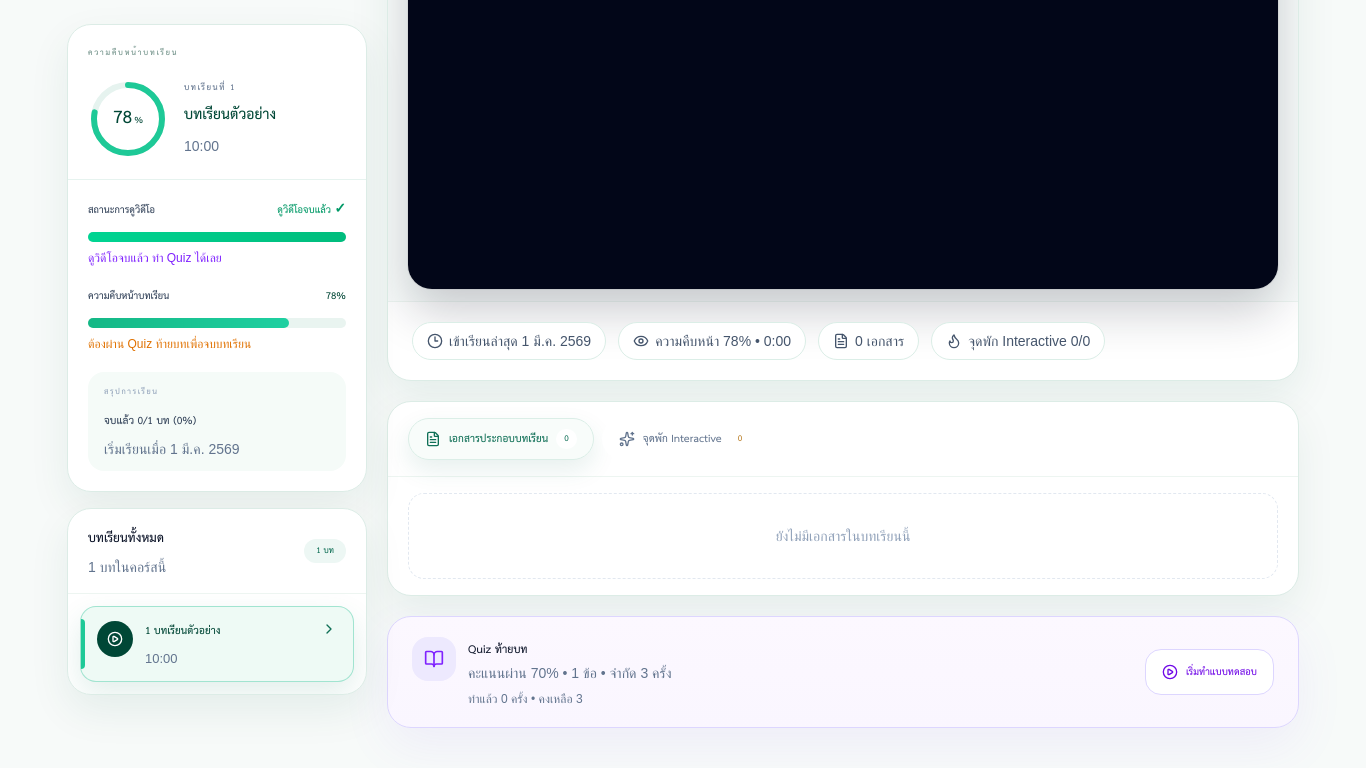
Test: CourseLearningArea interactive harness › opens the lesson quiz panel and submits a learner attempt
(page scrolled)
Expected: the heading "Quiz ท้ายบท" is shown, x1=468 y1=639 x2=528 y2=660
What coordinates should you click on to do the following:
click the button "เริ่มทำแบบทดสอบ"
I would click on:
 (1210, 672)
Its box is x1=1145 y1=649 x2=1274 y2=695.
(page scrolled)
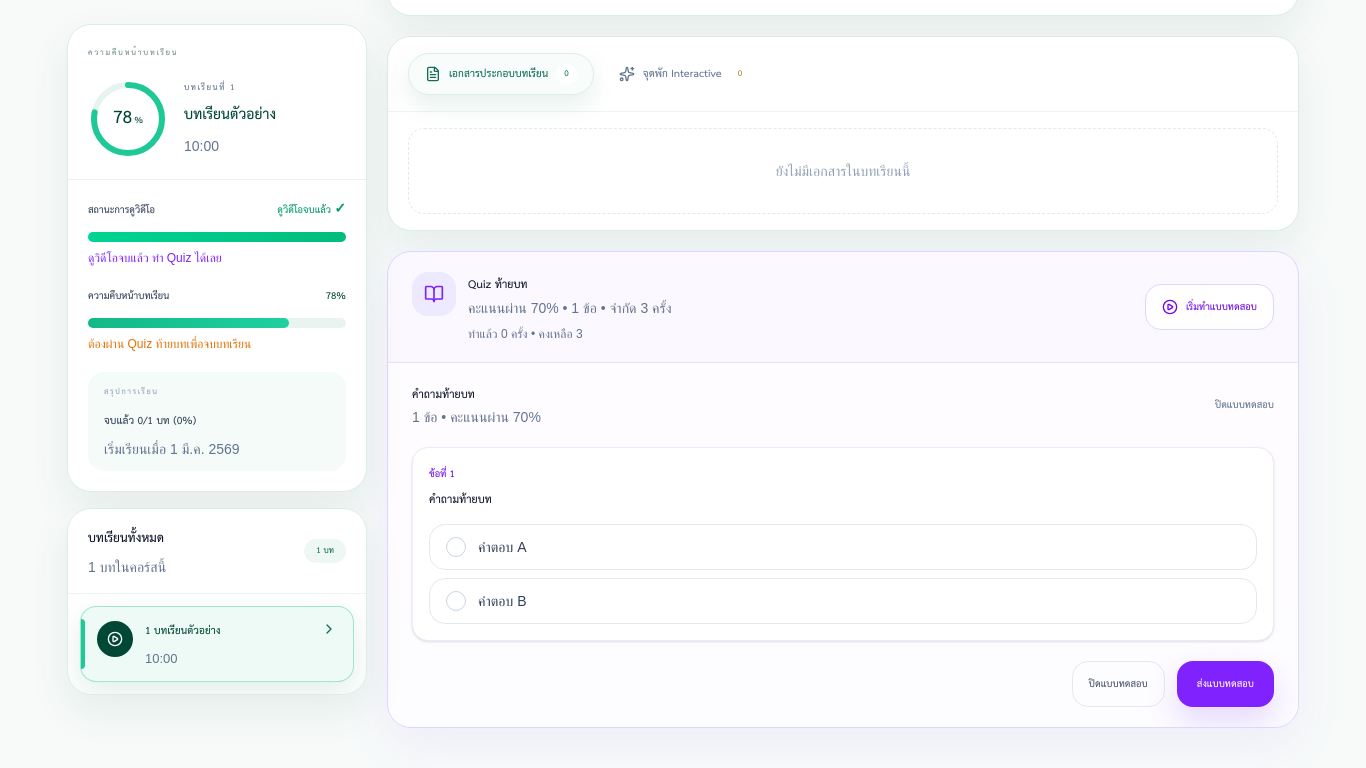
Now the button "คำตอบ A" is shown
What coordinates should you click on to do the following:
click the button "คำตอบ A"
I would click on:
 (502, 547)
Its box is x1=429 y1=524 x2=1257 y2=570.
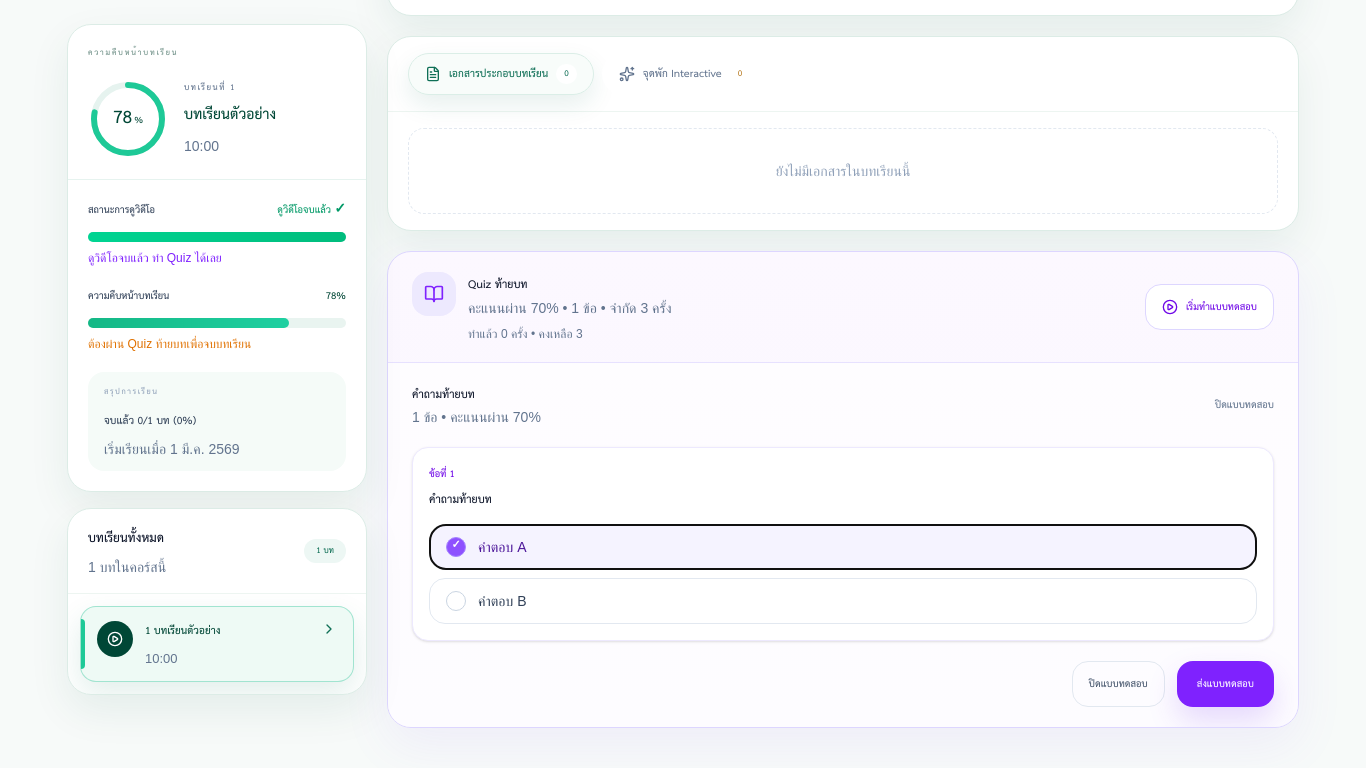
What coordinates should you click on to do the following:
click the button "ส่งแบบทดสอบ"
I would click on:
 (1225, 684)
Its box is x1=1177 y1=660 x2=1274 y2=706.
(page scrolled)
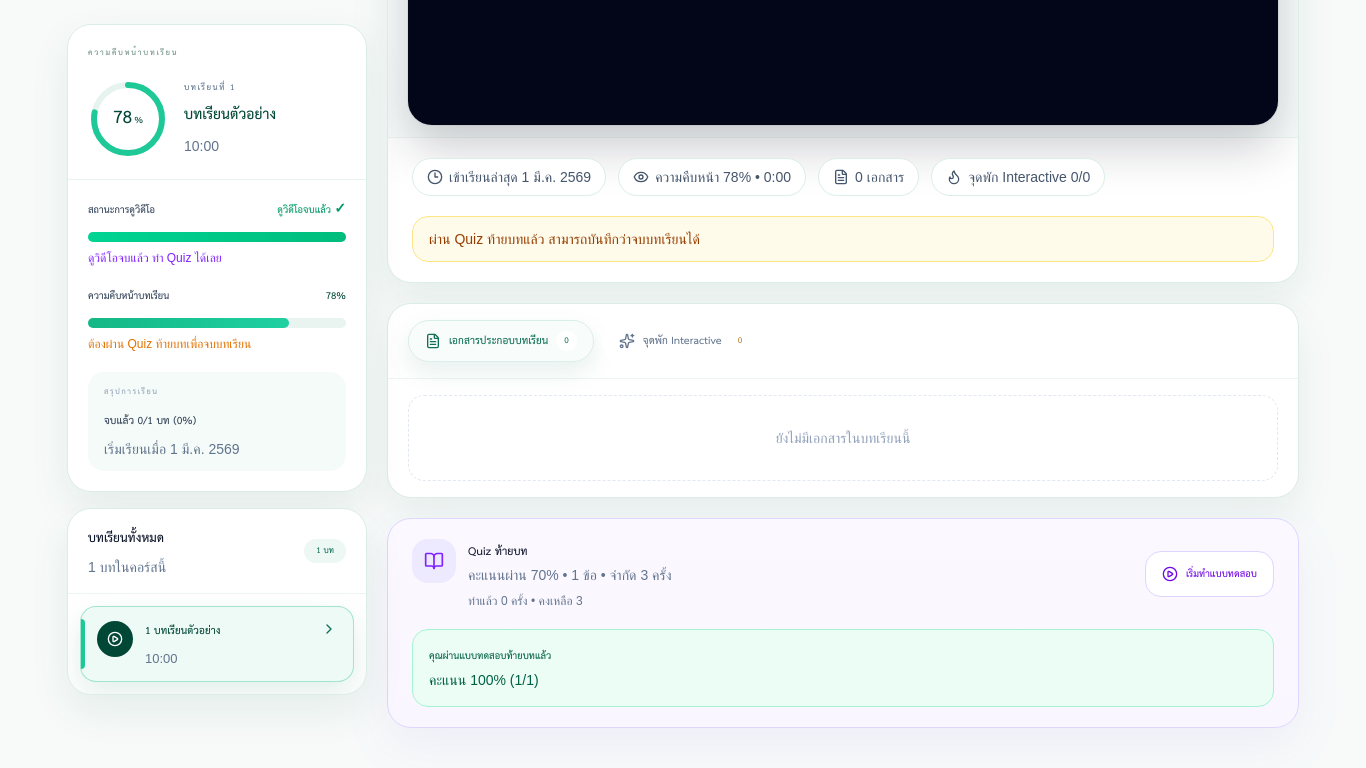
Now the text "คุณผ่านแบบทดสอบท้ายบทแล้ว" is shown, box x1=429 y1=646 x2=551 y2=664
